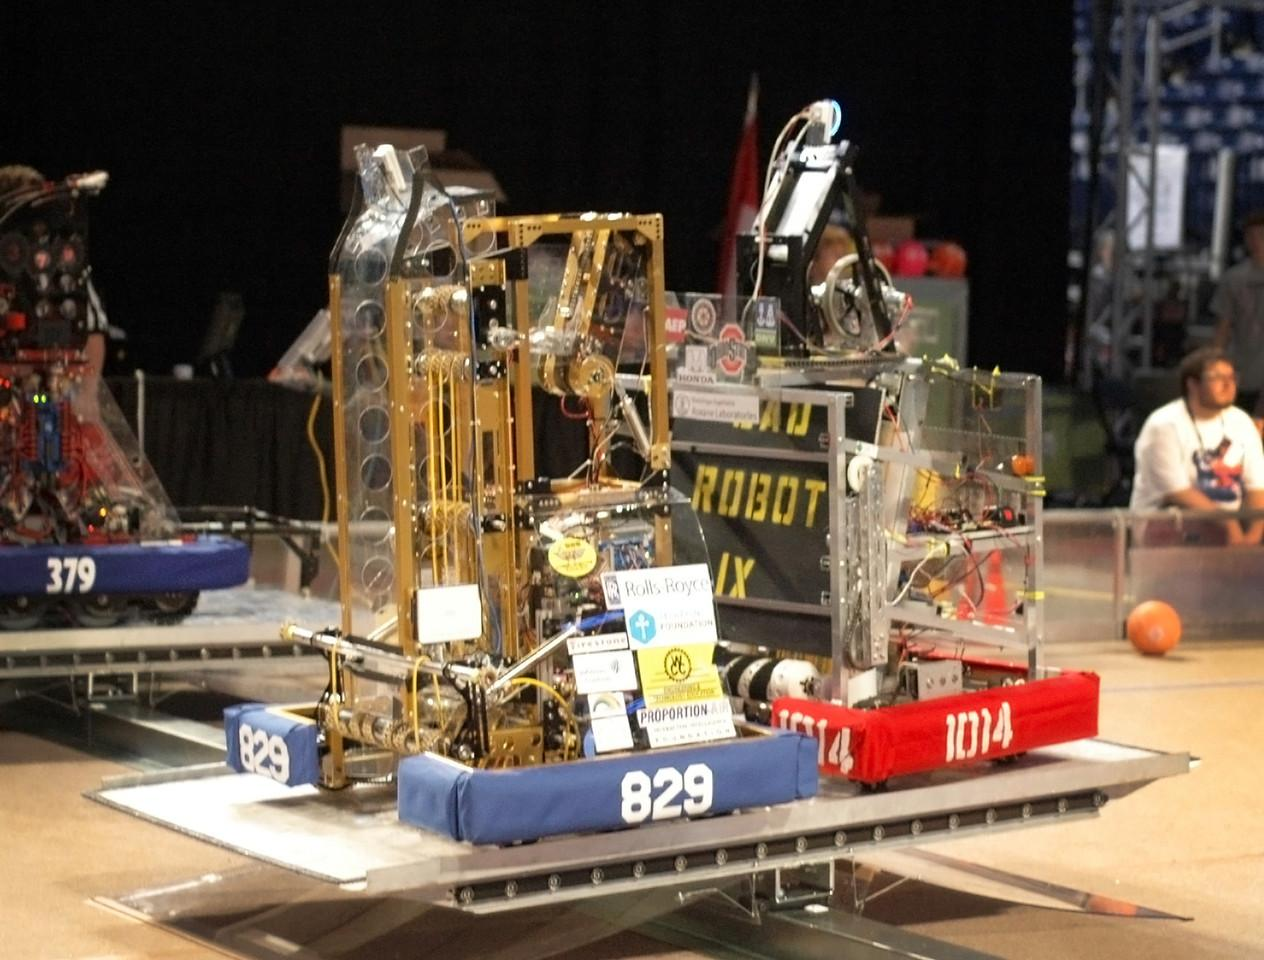robot: (218, 140, 821, 849), (627, 89, 1104, 788), (0, 163, 250, 623)
